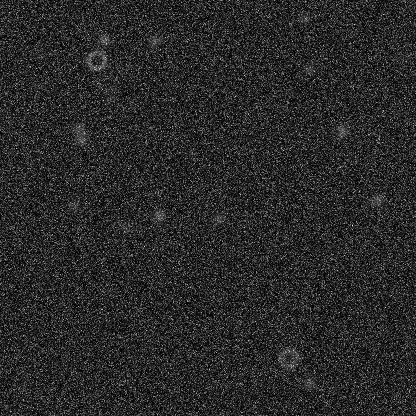Ring: (276, 346, 300, 370), (84, 48, 108, 72), (94, 70, 118, 94)
Spot: (70, 120, 86, 136), (96, 31, 112, 47), (296, 9, 312, 25), (73, 131, 89, 147), (300, 376, 316, 392), (29, 46, 45, 62), (392, 51, 408, 67), (369, 192, 385, 208), (228, 50, 244, 66), (300, 60, 316, 76), (333, 122, 349, 138), (114, 63, 130, 79), (116, 219, 132, 235), (151, 207, 167, 223), (145, 33, 161, 49), (103, 90, 119, 106), (14, 379, 30, 395), (210, 210, 226, 226), (65, 196, 81, 212)
